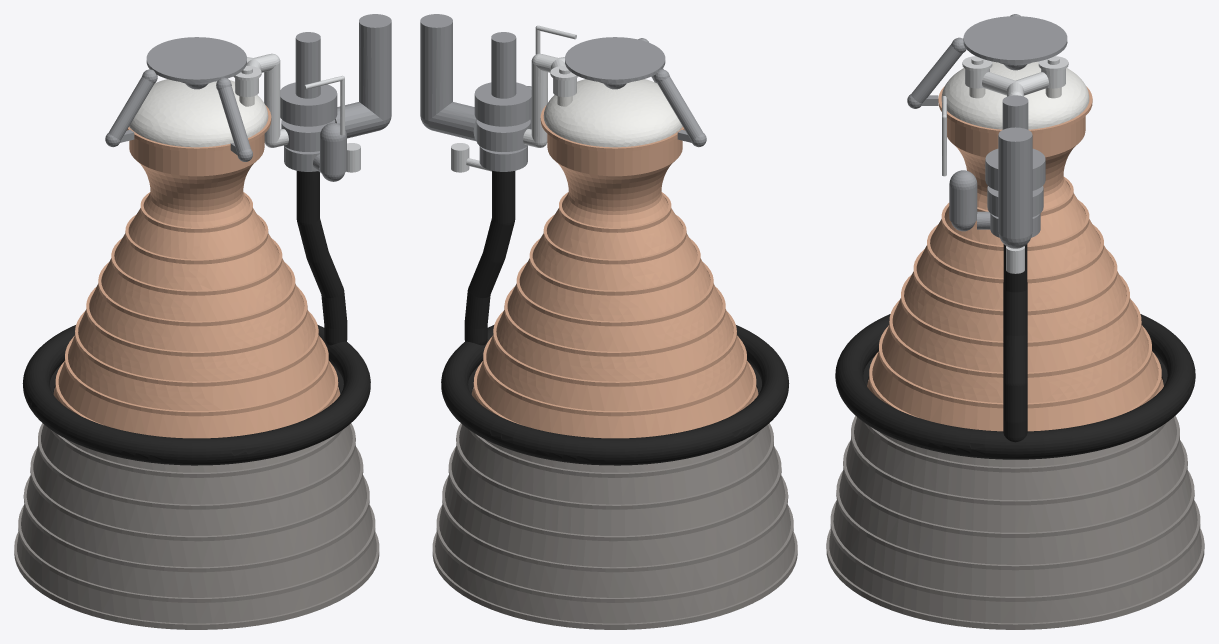
Rendered from ENG_F1.glb.
3 renders of one model, left to right at view 1: azimuth 30°, elevation 25°; view 2: azimuth 150°, elevation 25°; view 3: azimuth 270°, elevation 25°, orthographic. The views are drawn at different scales.
Visible parts, largest first — view 1: ENG-F1-020, ENG-F1-010, ENG-F1-060, ENG-F1-040, ENG-F1-080, ENG-F1-030, ENG-F1-070, ENG-F1-050, ENG-F1-090; view 2: ENG-F1-020, ENG-F1-010, ENG-F1-060, ENG-F1-040, ENG-F1-030, ENG-F1-080, ENG-F1-070, ENG-F1-090; view 3: ENG-F1-020, ENG-F1-010, ENG-F1-060, ENG-F1-040, ENG-F1-080, ENG-F1-030, ENG-F1-070, ENG-F1-050, ENG-F1-090.
Boxes of the visible parts, <box> form: ENG-F1-020: <box>14,392,379,629</box>; ENG-F1-010: <box>53,105,340,438</box>; ENG-F1-060: <box>22,171,370,465</box>; ENG-F1-040: <box>280,14,391,171</box>; ENG-F1-080: <box>105,37,252,161</box>; ENG-F1-030: <box>129,79,268,147</box>; ENG-F1-070: <box>233,53,288,147</box>; ENG-F1-050: <box>313,123,346,181</box>; ENG-F1-090: <box>303,75,360,172</box>; ENG-F1-020: <box>432,393,797,629</box>; ENG-F1-010: <box>471,105,758,438</box>; ENG-F1-060: <box>441,170,789,465</box>; ENG-F1-040: <box>420,14,531,171</box>; ENG-F1-030: <box>543,79,682,147</box>; ENG-F1-080: <box>565,37,706,147</box>; ENG-F1-070: <box>523,53,578,147</box>; ENG-F1-090: <box>451,25,576,172</box>; ENG-F1-020: <box>826,383,1204,629</box>; ENG-F1-010: <box>867,86,1163,431</box>; ENG-F1-060: <box>835,244,1195,459</box>; ENG-F1-040: <box>985,95,1045,248</box>; ENG-F1-080: <box>907,14,1067,108</box>; ENG-F1-030: <box>941,61,1089,129</box>; ENG-F1-070: <box>962,56,1068,96</box>; ENG-F1-050: <box>949,170,990,231</box>; ENG-F1-090: <box>942,96,1024,273</box>.
Size of the model in its own units: 4.19 by 5.64 by 3.78.
Materials: 1 (1 with a texture image).
